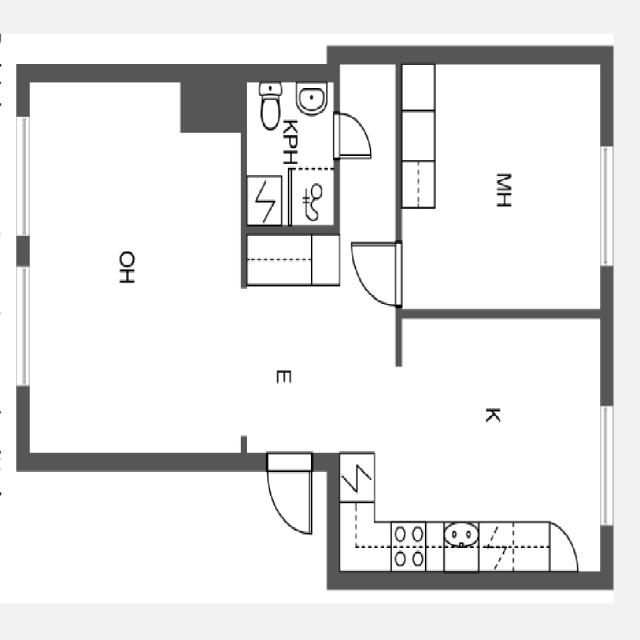door: (264, 451, 316, 542), (349, 236, 404, 305), (543, 514, 583, 574), (331, 106, 375, 160)
window: (8, 106, 36, 244), (11, 251, 34, 393), (595, 398, 619, 530), (595, 137, 618, 271)
zone: (16, 81, 239, 456), (334, 312, 610, 572), (397, 54, 610, 310), (244, 74, 338, 230), (243, 232, 315, 283)
